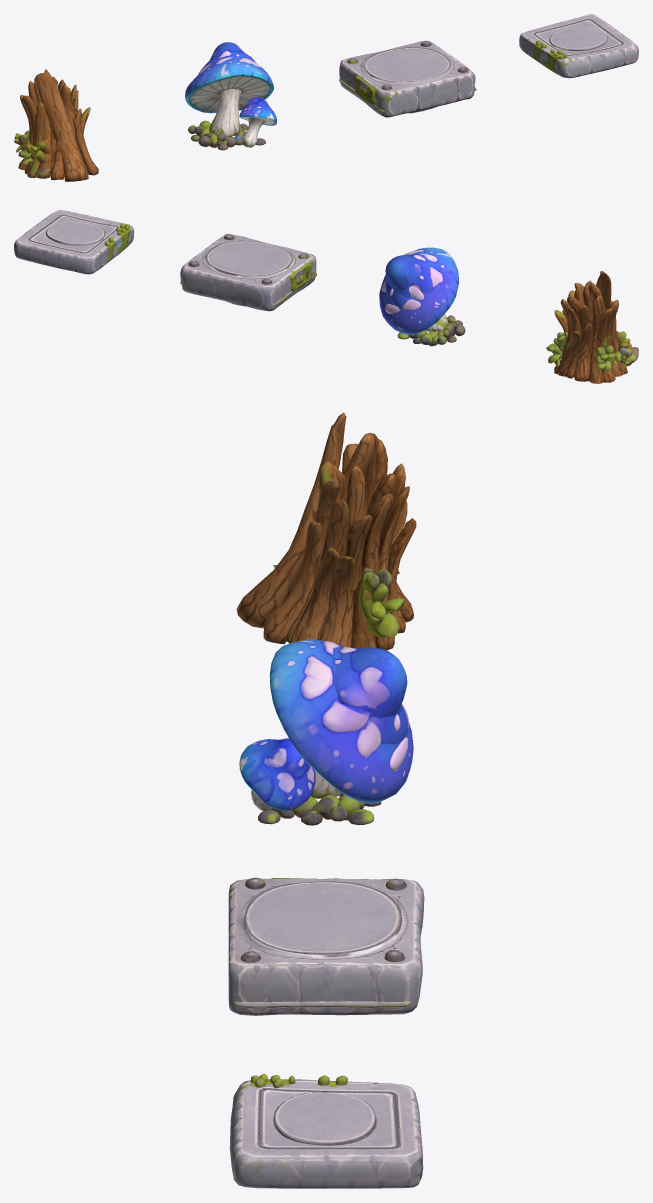
File: bosque_tile.glb
3 views of the same model, one above another, from view 1: azimuth 30°, elevation 25°; view 2: azimuth 150°, elevation 25°; view 3: azimuth 270°, elevation 25° (orthographic). The views are drawn at different scales.
Parts seen in each view (by area): view 1: losa_runas_remaches, seta_reactiva, tronco_sin_resina, losa_runas_ovalo; view 2: losa_runas_remaches, tronco_sin_resina, seta_reactiva, losa_runas_ovalo; view 3: losa_runas_remaches, seta_reactiva, tronco_sin_resina, losa_runas_ovalo.
Part boxes in pixels (<box>): losa_runas_remaches: <box>339,40,476,117</box>; seta_reactiva: <box>185,42,276,150</box>; tronco_sin_resina: <box>14,69,98,181</box>; losa_runas_ovalo: <box>519,14,638,78</box>; losa_runas_remaches: <box>180,234,316,311</box>; tronco_sin_resina: <box>546,271,638,383</box>; seta_reactiva: <box>379,247,465,346</box>; losa_runas_ovalo: <box>14,210,134,274</box>; losa_runas_remaches: <box>228,877,424,1015</box>; seta_reactiva: <box>239,639,413,825</box>; tronco_sin_resina: <box>236,412,416,650</box>; losa_runas_ovalo: <box>229,1074,423,1188</box>.
Size of the model in its own units: 2.76 by 0.4975 by 0.3907.
Materials: 1 (1 with a texture image).
